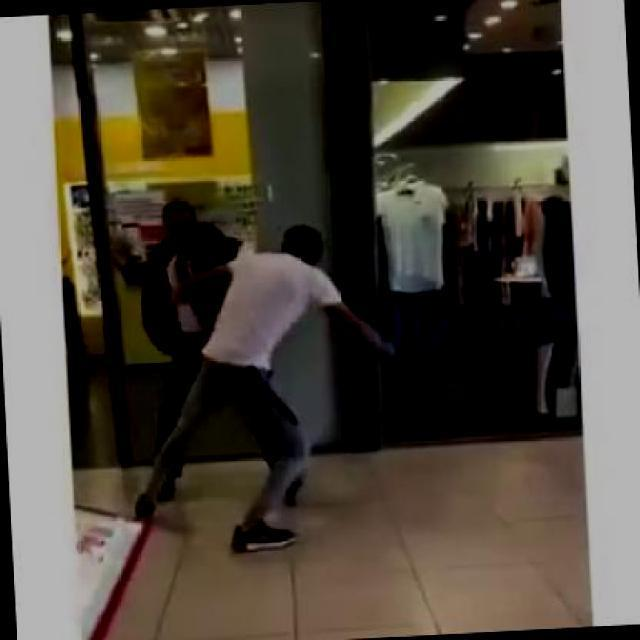fight: (120, 190, 394, 556)
